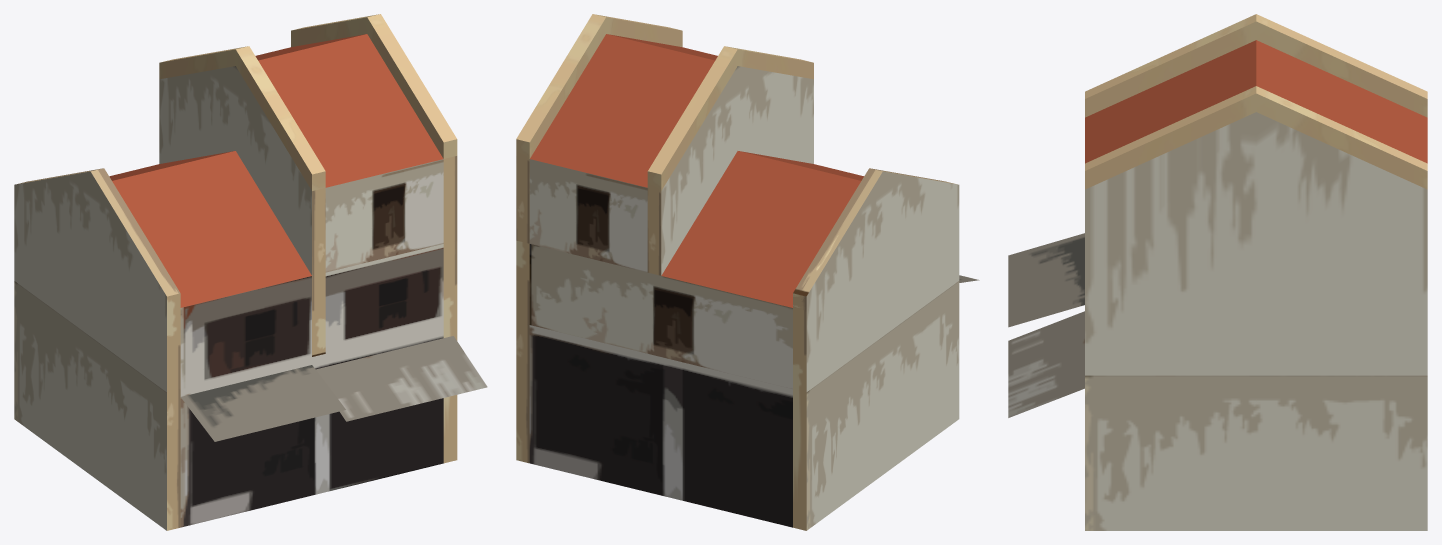
File: SM_Building_Large_06.fbx
3 renders of one model, left to right at view 1: azimuth 30°, elevation 25°; view 2: azimuth 150°, elevation 25°; view 3: azimuth 270°, elevation 25°, orthographic. The views are drawn at different scales.
Parts seen in each view (by area): view 1: SM_Building_Large_06_LOD0; view 2: SM_Building_Large_06_LOD0; view 3: SM_Building_Large_06_LOD0.
Part boxes in pixels (bbox=[...]): SM_Building_Large_06_LOD0: bbox=[14, 14, 487, 530]; SM_Building_Large_06_LOD0: bbox=[516, 14, 979, 530]; SM_Building_Large_06_LOD0: bbox=[1008, 14, 1427, 530].
Size of what is drawn, in the model's own units: 9.22 by 11.84 by 10.28.
